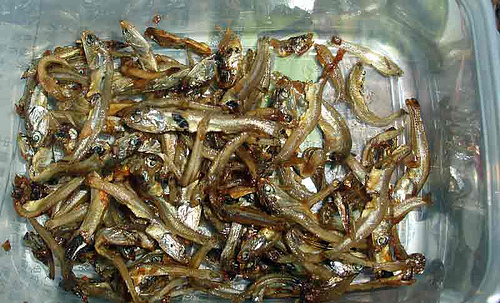myeolchibokk-eum: (10, 19, 442, 303)
